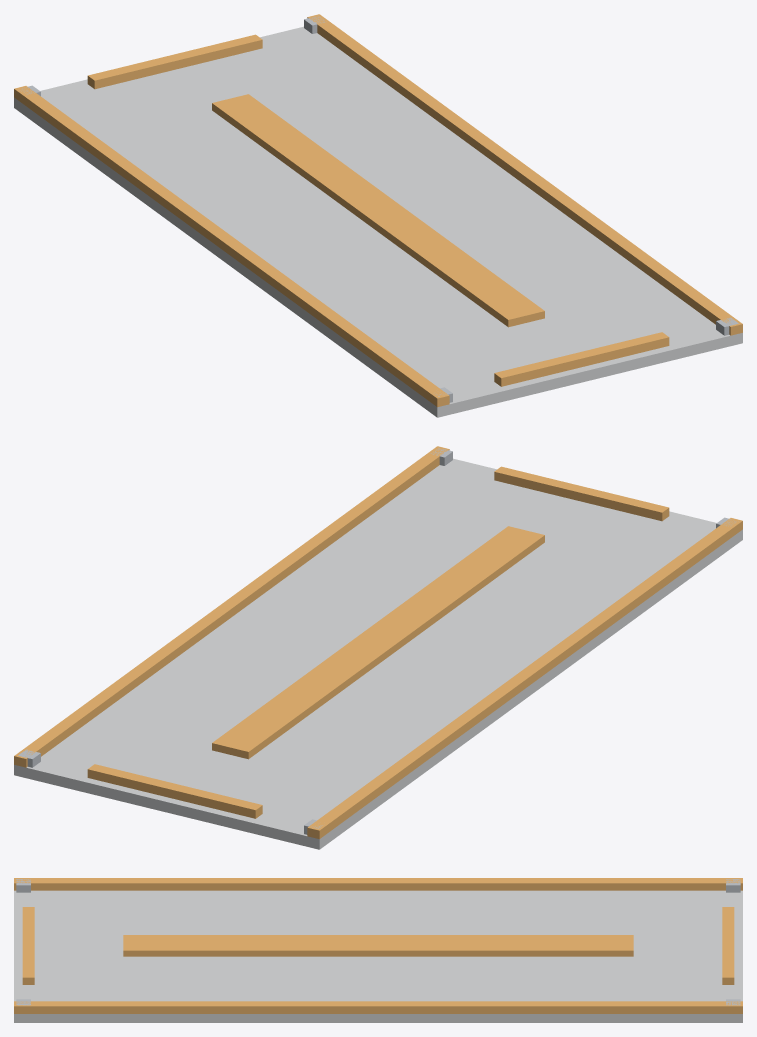
The picture shows the model from 3 angles, top to bottom: view 1: azimuth 30°, elevation 25°; view 2: azimuth 150°, elevation 25°; view 3: azimuth 270°, elevation 25°; orthographic projection. The views are drawn at different scales.
Parts seen in each view (by area): view 1: pad, markings, bollards; view 2: pad, markings, bollards; view 3: pad, markings, bollards.
Part boxes in pixels (box(x1,y1,x2,y2)): pad: box(14, 26, 742, 417); markings: box(14, 14, 742, 407); bollards: box(20, 16, 738, 402); pad: box(14, 458, 742, 849); markings: box(14, 446, 742, 839); bollards: box(18, 448, 738, 834); pad: box(14, 890, 742, 1022); markings: box(14, 878, 742, 1013); bollards: box(16, 879, 740, 1005).
Size of the model in its own units: 2.5 by 0.15 by 6.
